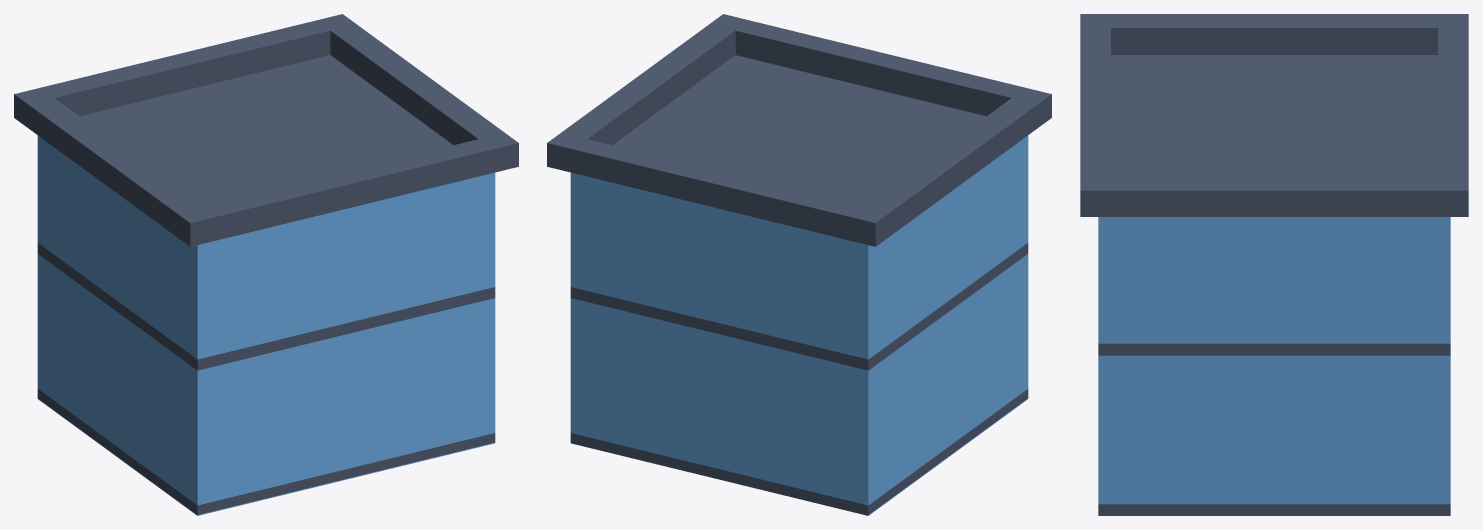
Rendered from building_1x1_7_r.glb.
The picture shows the model from 3 angles, left to right: view 1: azimuth 30°, elevation 25°; view 2: azimuth 150°, elevation 25°; view 3: azimuth 270°, elevation 25°; orthographic projection. The views are drawn at different scales.
Visible parts, largest first — view 1: Cube.002; view 2: Cube.002; view 3: Cube.002.
Boxes of the visible parts, x1,y1,x2,y2 form: Cube.002: [14, 14, 518, 515]; Cube.002: [547, 14, 1051, 515]; Cube.002: [1080, 14, 1468, 515].
Bounding box in the file's own units: 1.9 × 1.67 × 1.76.
